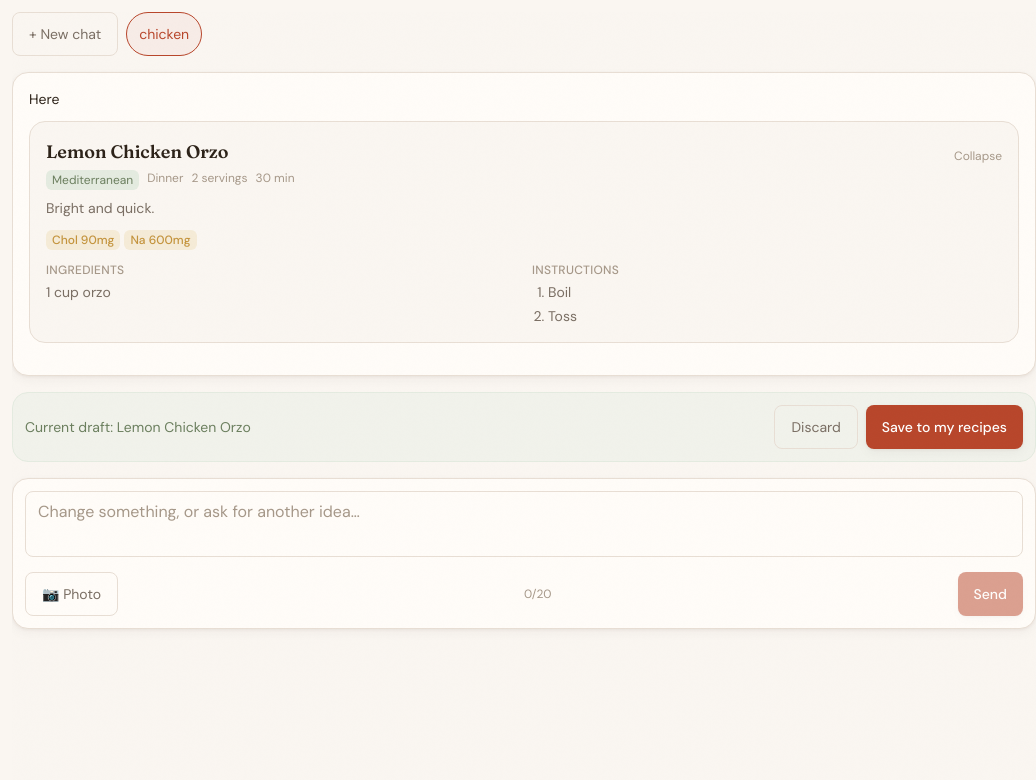
Test: RecipeGenerator › restores the chat if discarding fails
Click the button "Discard" at (816, 427), box top-left (774, 405), bottom-right (858, 449)
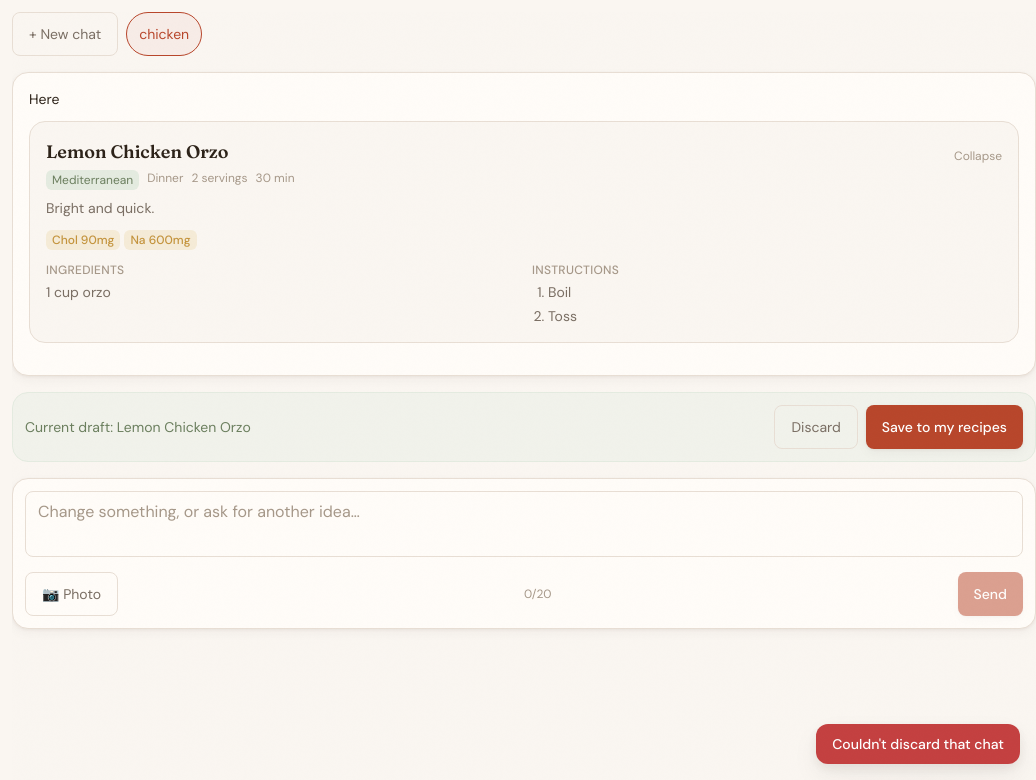
expect the button "chicken" is shown: met, box top-left (126, 12), bottom-right (202, 56)
expect the text "Couldn't discard that chat" is shown: met, box top-left (816, 724), bottom-right (1020, 764)
